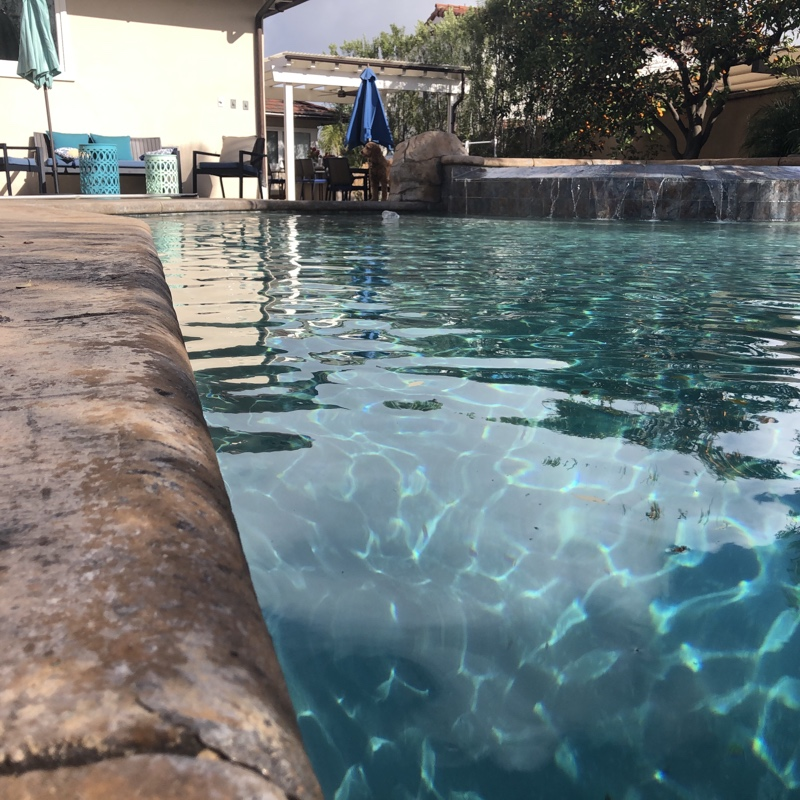Plastic Bottle: (377, 208, 401, 226)
